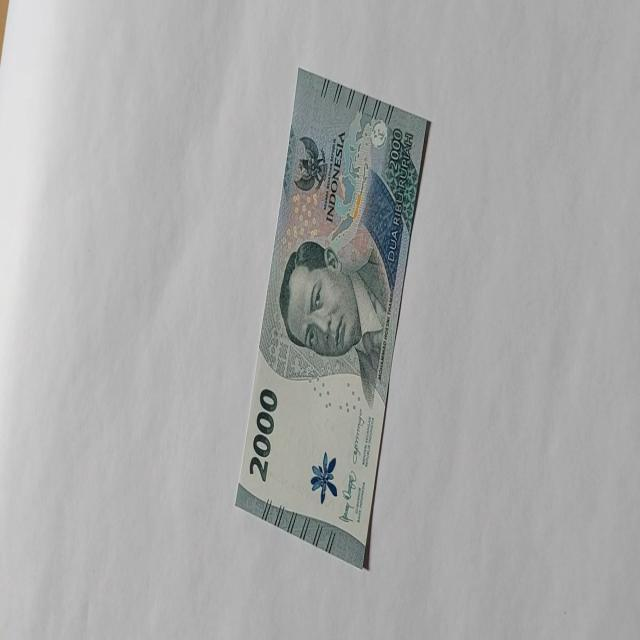dua ribu rupiah: (233, 67, 431, 569), (278, 237, 390, 407)
